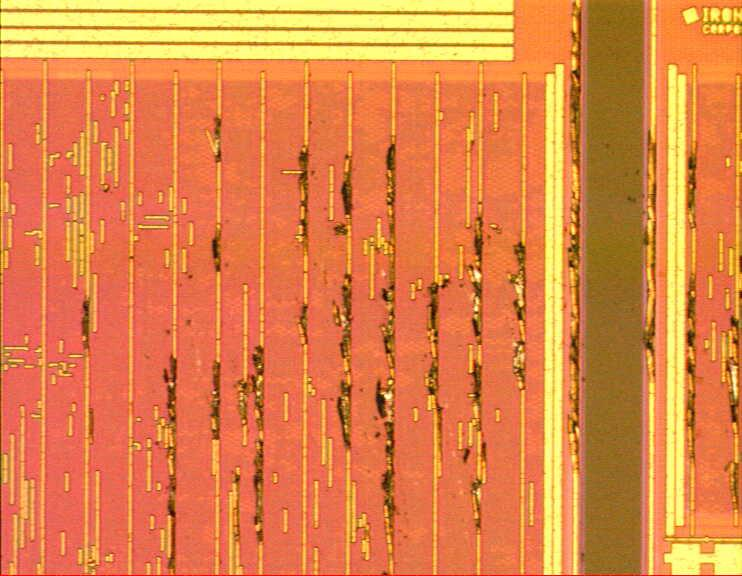SCRATCH: (62, 1, 742, 576)
